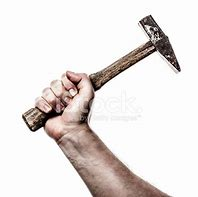hammer: (20, 13, 183, 133)
